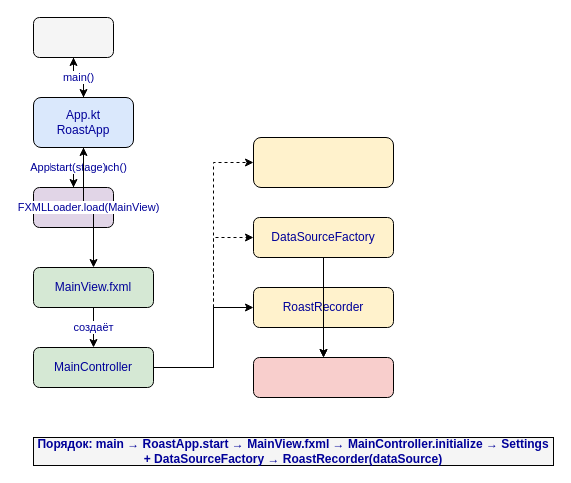
The diagram is 571 pixels wide and 483 high, and some of its shapes have lost their labels. The box of each missing label's shape, as (x1, y1, x2, y2) in pixels:
JVM: (32, 16, 114, 58)
RoastDataSource: (252, 356, 394, 398)
SettingsManager AppSettings: (252, 136, 394, 188)
